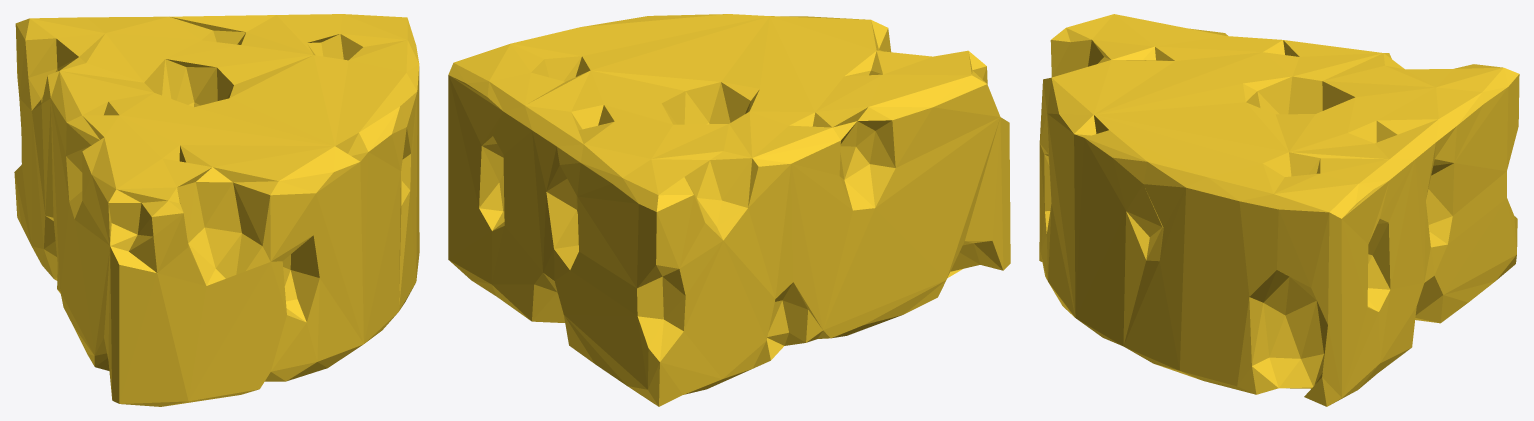
File: Cheese.fbx
The picture shows the model from 3 angles, left to right: view 1: azimuth 30°, elevation 25°; view 2: azimuth 150°, elevation 25°; view 3: azimuth 270°, elevation 25°; orthographic projection. The views are drawn at different scales.
Visible parts, largest first — view 1: cheese; view 2: cheese; view 3: cheese.
Part boxes in pixels (bbox=[...]): cheese: bbox=[14, 14, 419, 406]; cheese: bbox=[448, 14, 1010, 406]; cheese: bbox=[1039, 14, 1519, 406].
Bounding box in the file's own units: 14.82 × 7.03 × 14.93.
